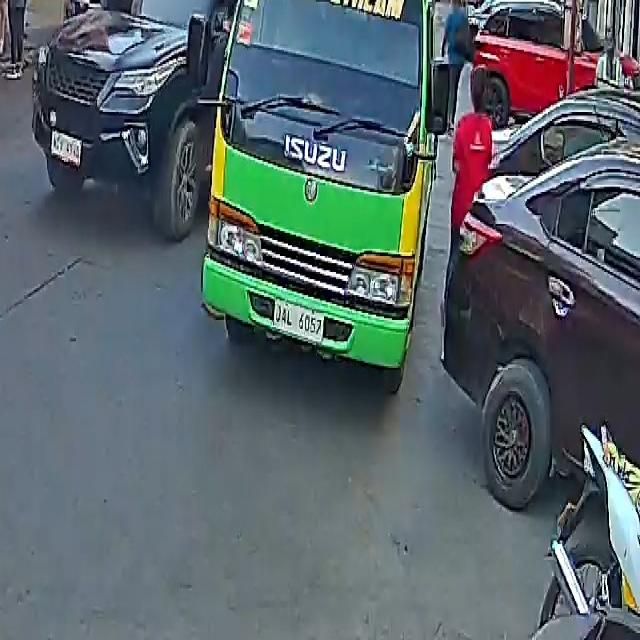car: (441, 98, 640, 516), (33, 0, 262, 249), (466, 0, 640, 128)
